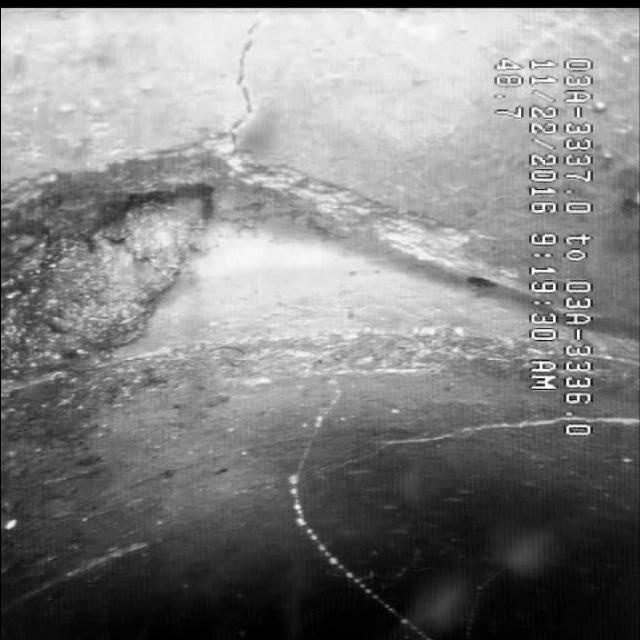Fracture: (39, 22, 439, 361)
